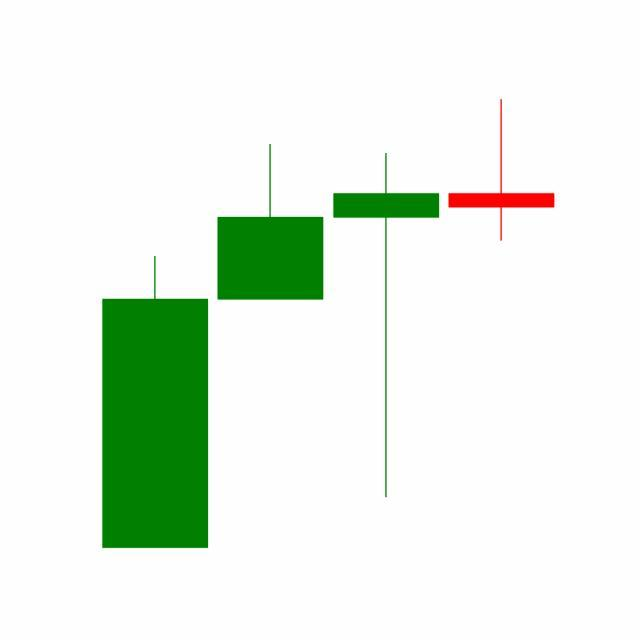Spinning Top: (444, 98, 560, 243)
